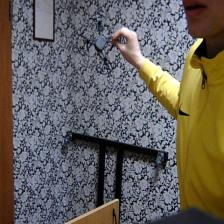drone: (74, 10, 134, 76)
